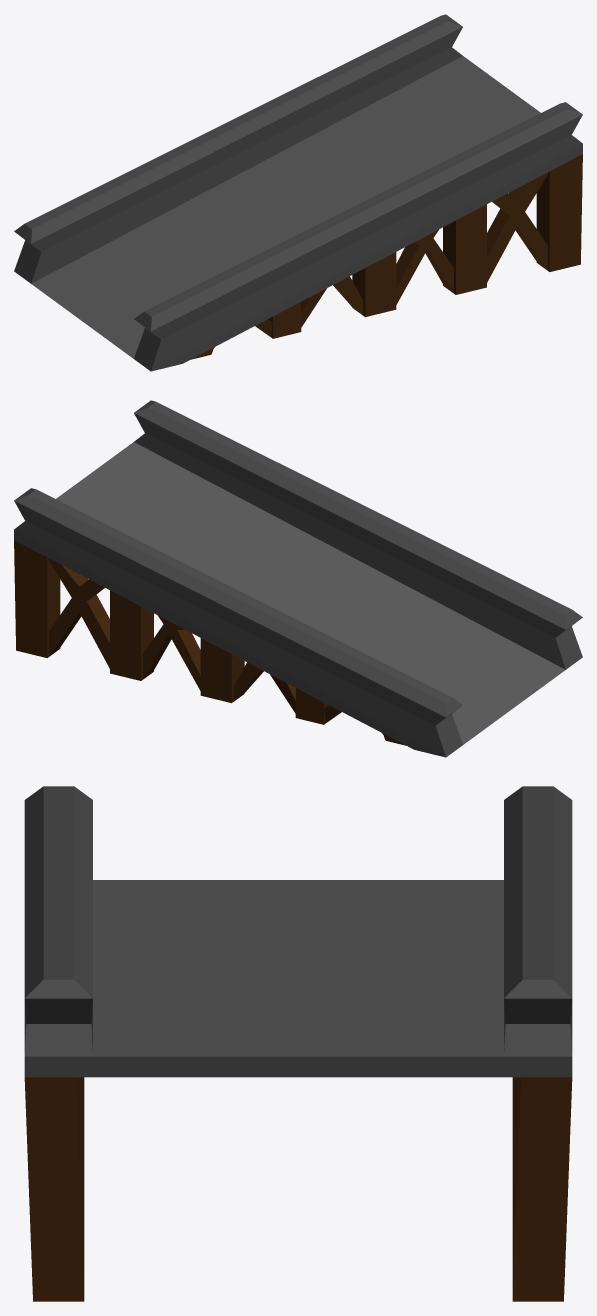
The model's file is SlopeModule.fbx.
3 renders of one model, top to bottom at view 1: azimuth 30°, elevation 25°; view 2: azimuth 150°, elevation 25°; view 3: azimuth 270°, elevation 25°, orthographic. The views are drawn at different scales.
Visible parts, largest first — view 1: SlopeModule; view 2: SlopeModule; view 3: SlopeModule.
Boxes of the visible parts, left/top/right/bottom form: SlopeModule: left=14, top=14, right=582, bottom=371; SlopeModule: left=14, top=400, right=582, bottom=757; SlopeModule: left=24, top=786, right=572, bottom=1301.
Bounding box in the file's own units: 566 × 196 × 311.
